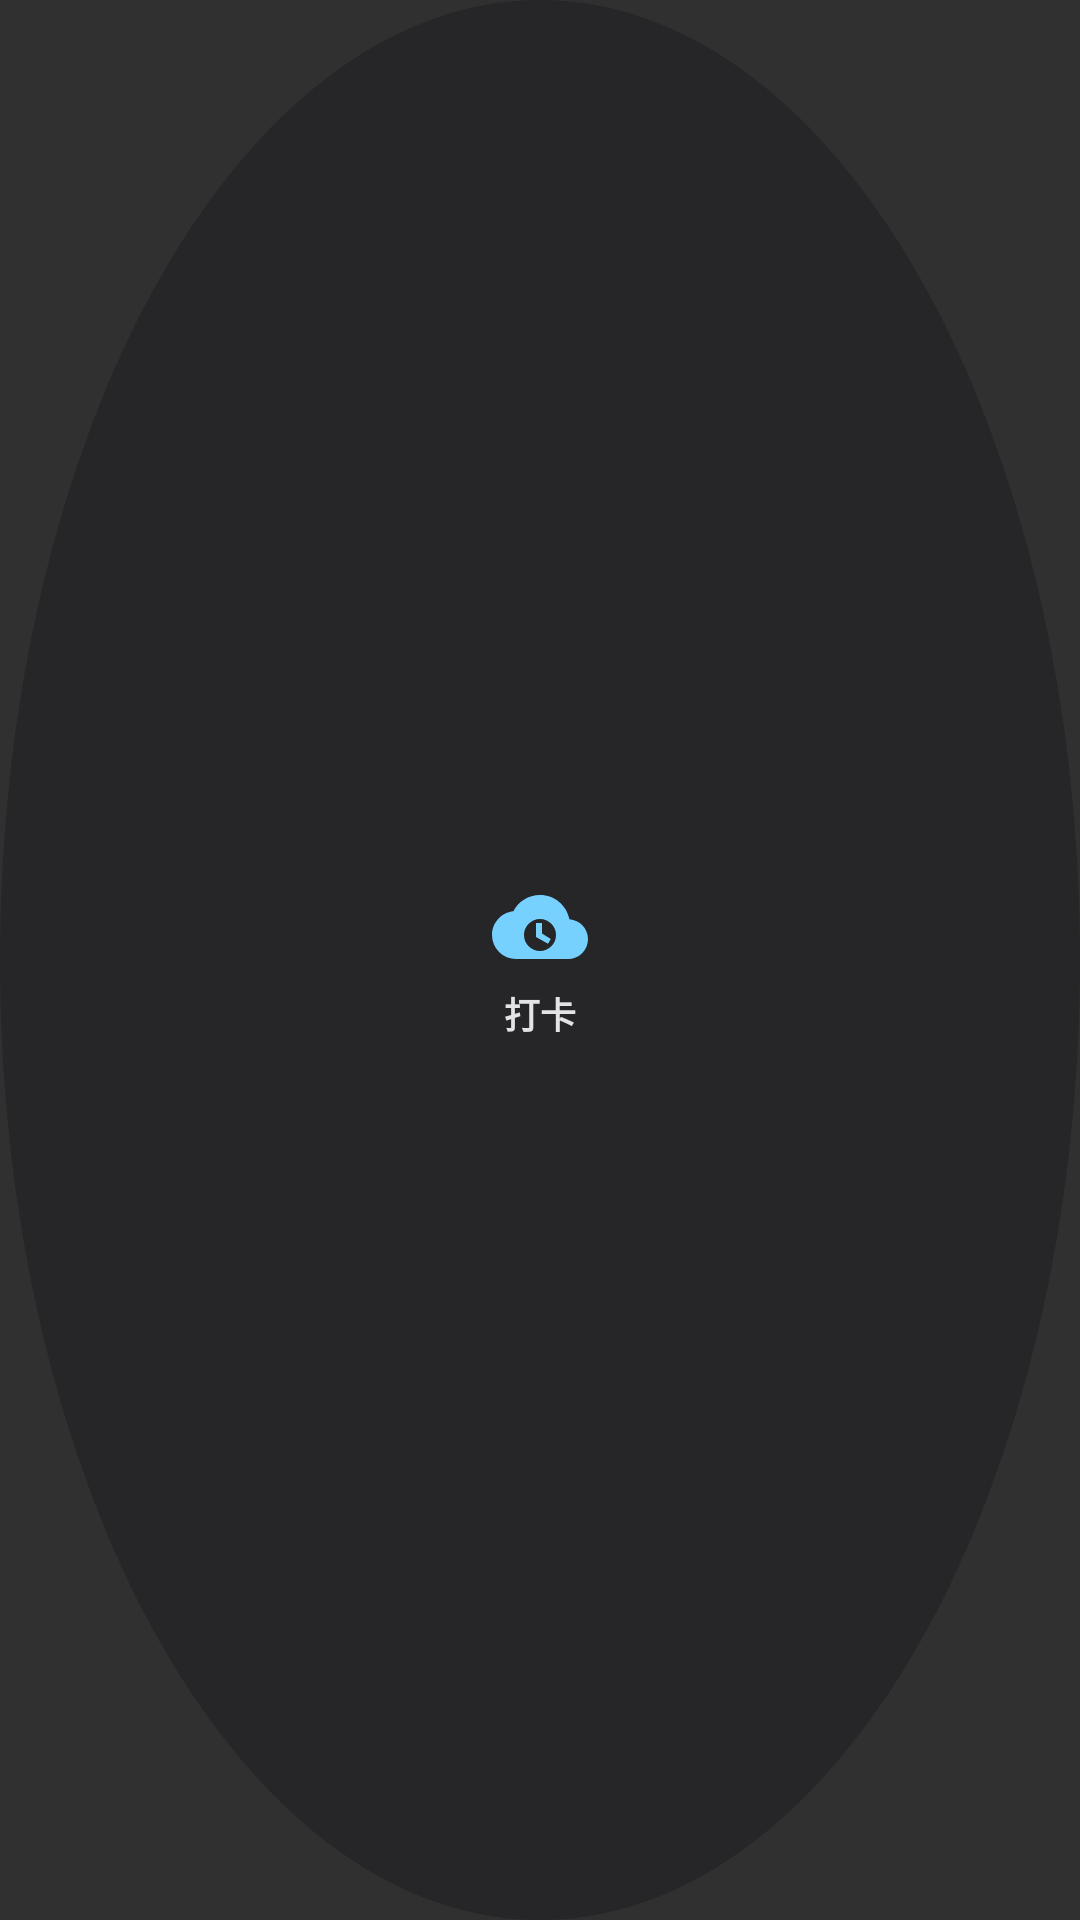

Where to tap for icons on this 1080*1920 app screen, as (x,y):
cloud clock: (540,927)
